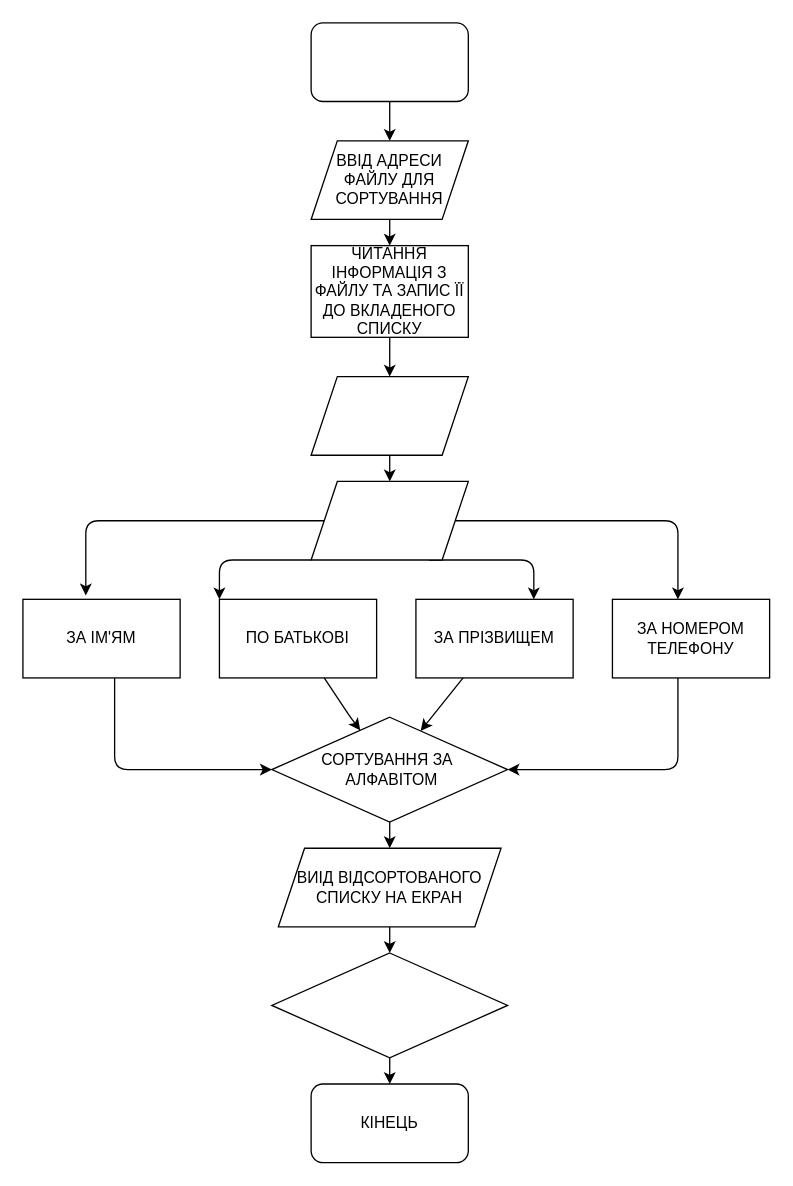
Some shapes in this 793 by 1186 pixel diagram are drawn without their labels. The shapes that lost their labels are listed below. From the top down, each one's centre as x and y in pixels, then its label:
[389,62]: ПОЧАТОК
[389,415]: ВИВІД СПИСКУ НА ЕКРАН
[389,520]: ВИБІР МЕТОДУ СОРТУВАННЯ
[389,1005]: ВИВІД В ФАЙЛ
